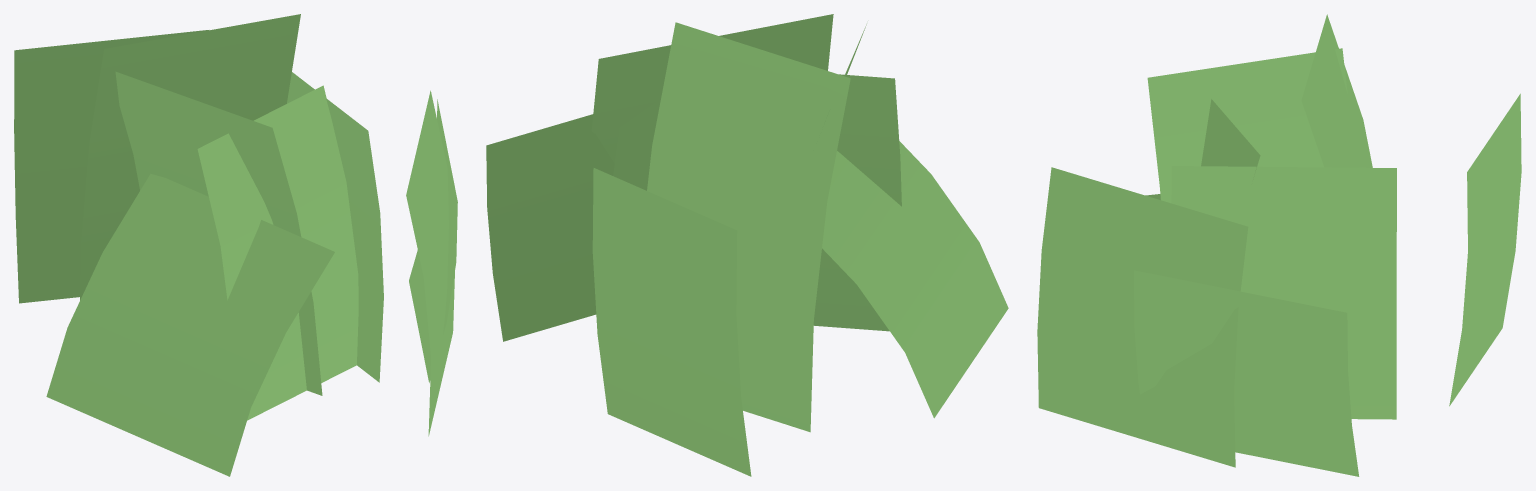
Rendered from SM_GrassClump_LOD1.fbx.
The picture shows the model from 3 angles, left to right: view 1: azimuth 30°, elevation 25°; view 2: azimuth 150°, elevation 25°; view 3: azimuth 270°, elevation 25°; orthographic projection. The views are drawn at different scales.
Visible parts, largest first — view 1: SM_GrassClump_LOD1; view 2: SM_GrassClump_LOD1; view 3: SM_GrassClump_LOD1.
Boxes of the visible parts, bbox=[...] form: SM_GrassClump_LOD1: bbox=[14, 14, 457, 476]; SM_GrassClump_LOD1: bbox=[486, 14, 1008, 476]; SM_GrassClump_LOD1: bbox=[1037, 14, 1521, 476].
Bounding box in the file's own units: 45.88 × 34.21 × 48.19.
